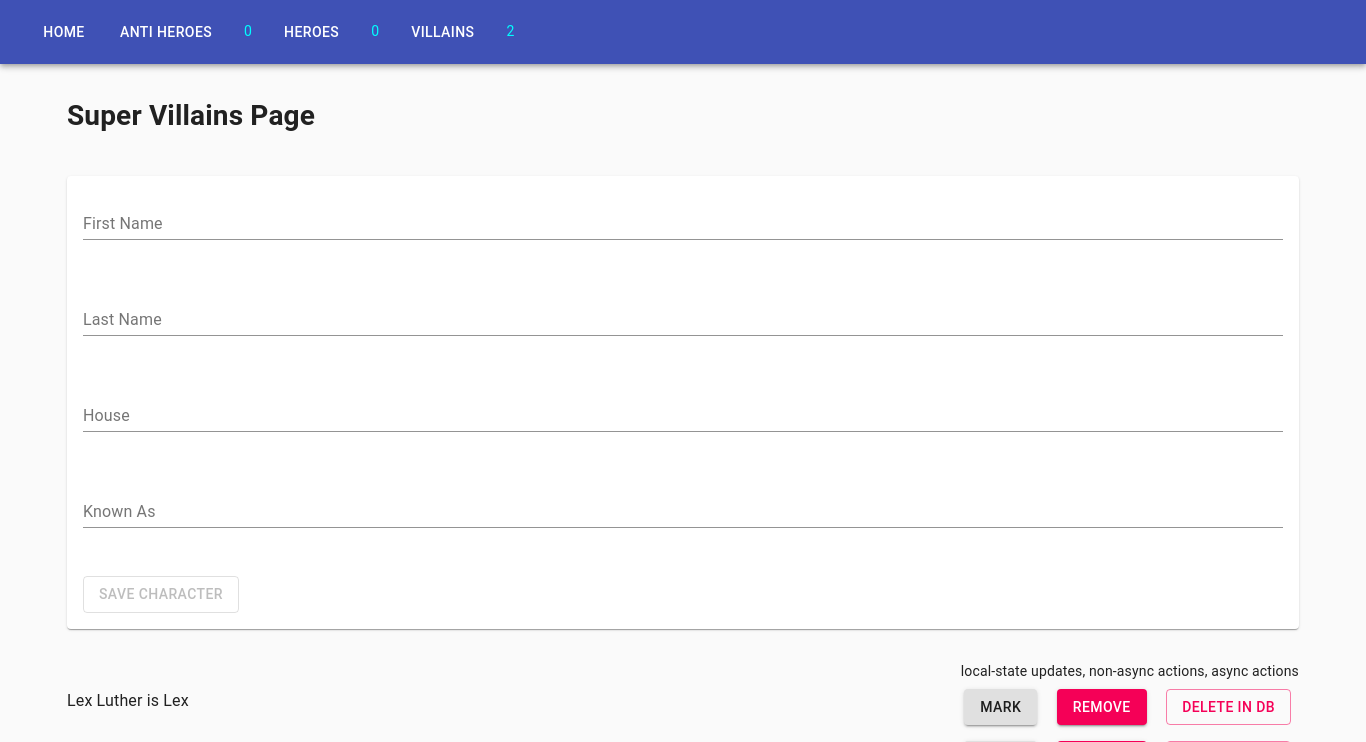
Villains Page › should mark a villain
Click the button with test id "mark-button" in the row of "Lex Luther is Lex": (1001, 707) left=964, top=688, right=1037, bottom=725
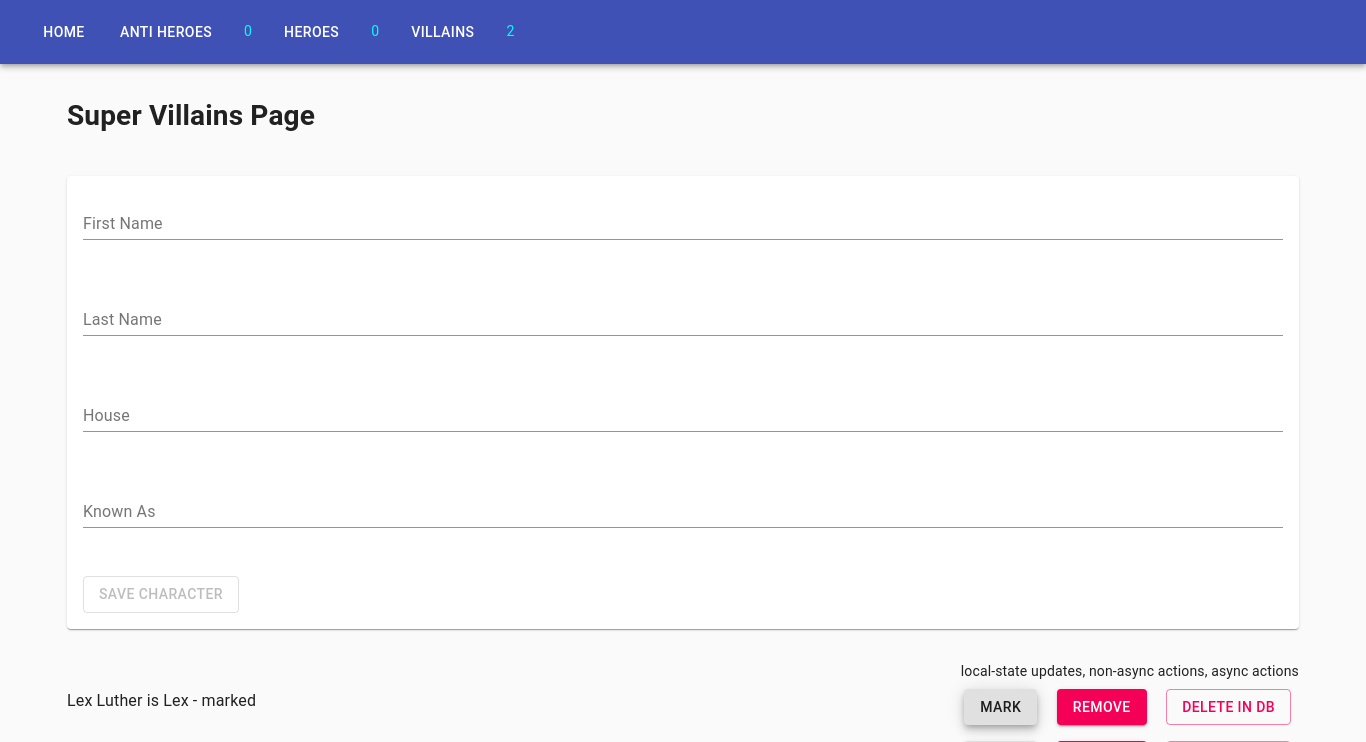
expect the element with test id "card" shows "marked": met, box left=189, top=690, right=256, bottom=710
